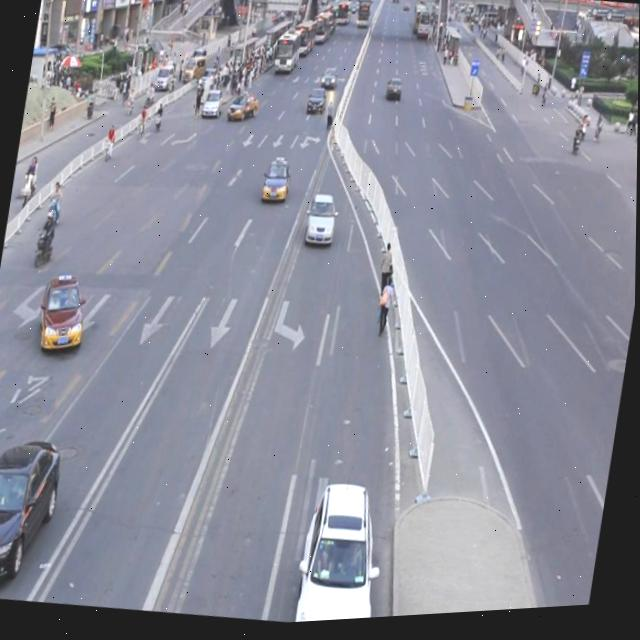car: (292, 475, 394, 626), (0, 425, 68, 589), (35, 269, 94, 359), (303, 194, 341, 255), (260, 159, 292, 209)
